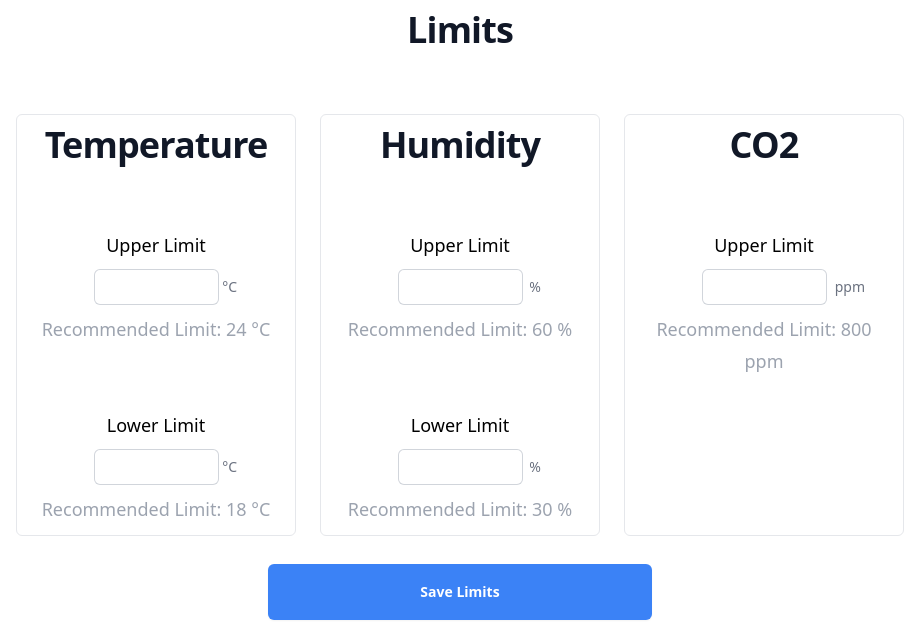
Scenario: Limits › handleUTempChange function › should update Upper Temperature state with sanitized value
// Simulate a change event on the input
In the field with test id "tempUp-input": coordinates (156, 287) [94,269,218,305], type "2A2. d"
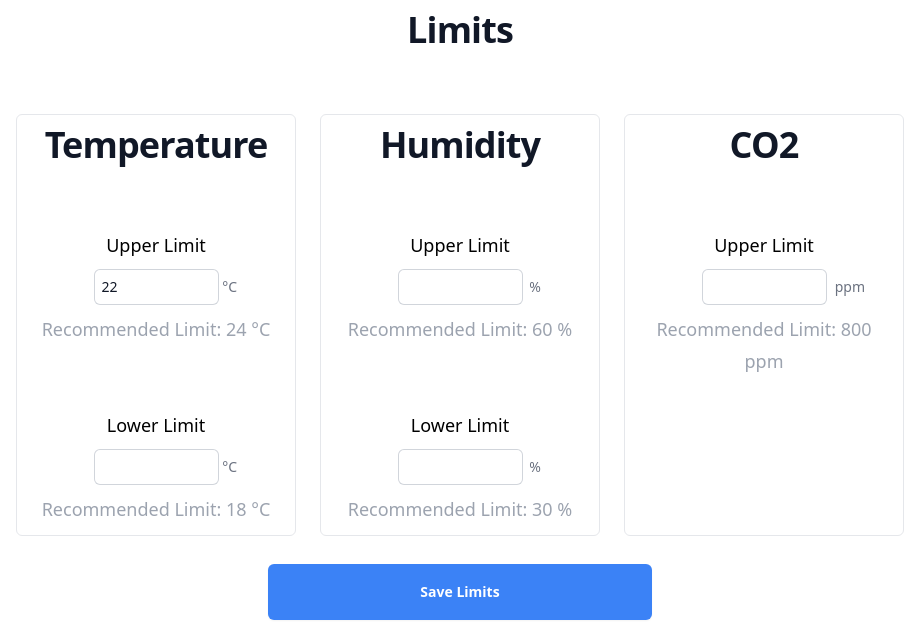
Check: the field with test id "tempUp-input" holds "22", box [94,269,218,305]
